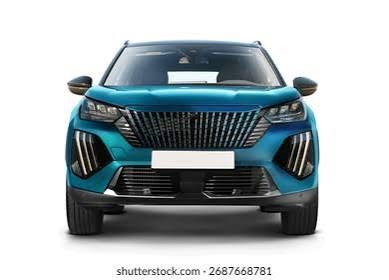car: (49, 40, 326, 237), (54, 48, 328, 229)
